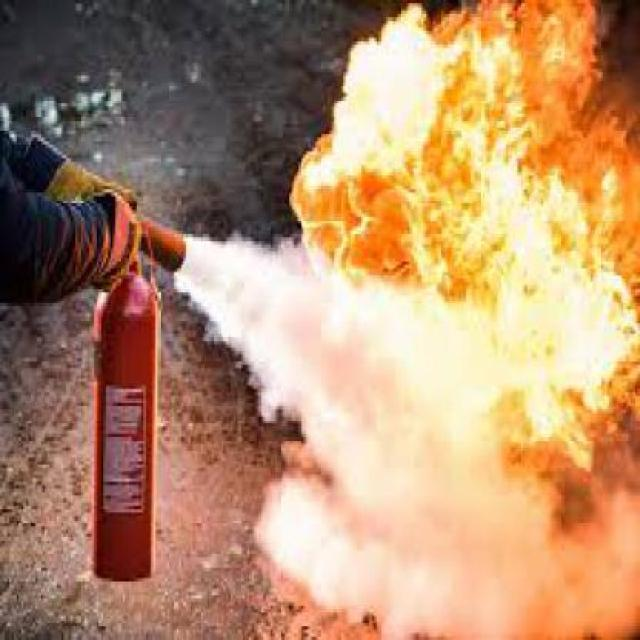Fire: (287, 0, 638, 540)
